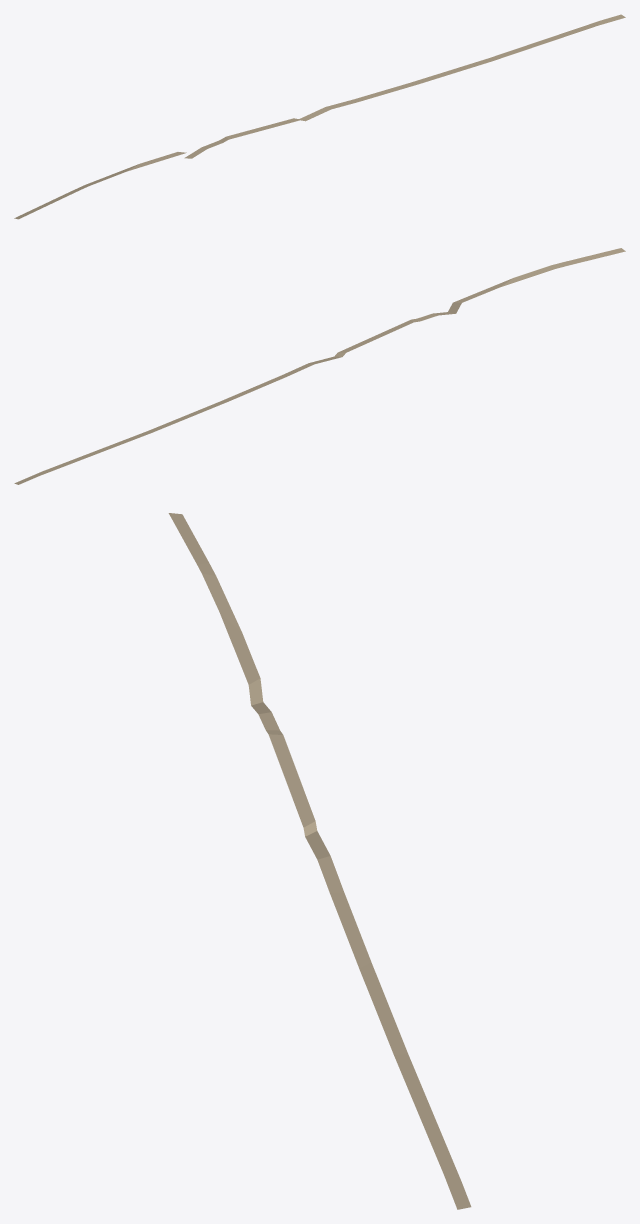
The model's file is farm_-5_-2_track.glb.
3 renders of one model, top to bottom at view 1: azimuth 30°, elevation 25°; view 2: azimuth 210°, elevation 25°; view 3: azimuth 270°, elevation 25°, orthographic. The views are drawn at different scales.
Parts seen in each view (by area): view 1: geometry_0; view 2: geometry_0; view 3: geometry_0.
Part boxes in pixels (x1,y1,x2,y2): geometry_0: [14, 14, 625, 219]; geometry_0: [14, 248, 625, 484]; geometry_0: [168, 513, 471, 1209].
Size of the model in its own units: 362 by 13.08 by 69.76.
